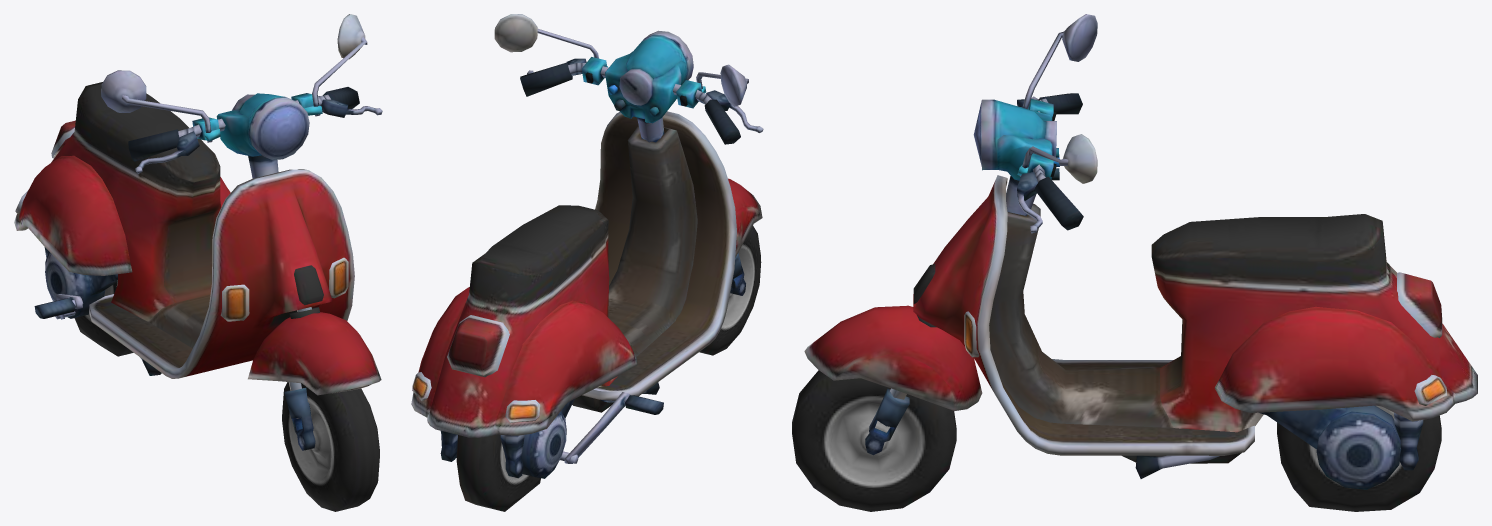
The model's file is motorcycle.glb.
3 views of the same model, side by side, from view 1: azimuth 30°, elevation 25°; view 2: azimuth 150°, elevation 25°; view 3: azimuth 270°, elevation 25° (orthographic). The views are drawn at different scales.
Parts seen in each view (by area): view 1: Donut_Scooter_Gadget_3_0, Object005_16_0, Object001_45_0, Object004_12_0, Object003_8_0, Object007_27_0, Object009_49_0, Object002, Object006_23_0, Object008_32_0; view 2: Donut_Scooter_Gadget_3_0, Object005_16_0, Object002, Object001_45_0, Object003_8_0, Object006_23_0, Object008_32_0, Object010, Object004_12_0, Object007_27_0, Object009_49_0; view 3: Donut_Scooter_Gadget_3_0, Object001_45_0, Object004_12_0, Object005_16_0, Object003_8_0, Object002, Object009_49_0, Object008_32_0, Object007_27_0, Object010, Object011_37_0.
Boxes of the visible parts, x1,y1,x2,y2 form: Donut_Scooter_Gadget_3_0: [14, 82, 354, 418]; Object005_16_0: [121, 36, 382, 178]; Object001_45_0: [282, 382, 379, 511]; Object004_12_0: [248, 312, 381, 395]; Object003_8_0: [45, 251, 117, 318]; Object007_27_0: [101, 70, 146, 112]; Object009_49_0: [284, 388, 315, 450]; Object002: [74, 282, 133, 356]; Object006_23_0: [34, 294, 83, 319]; Object008_32_0: [337, 14, 365, 59]; Donut_Scooter_Gadget_3_0: [411, 111, 736, 437]; Object005_16_0: [520, 29, 763, 144]; Object002: [456, 434, 540, 511]; Object001_45_0: [699, 226, 761, 355]; Object003_8_0: [441, 399, 574, 478]; Object006_23_0: [560, 392, 663, 463]; Object008_32_0: [494, 14, 537, 52]; Object010: [440, 431, 524, 478]; Object004_12_0: [728, 178, 762, 257]; Object007_27_0: [720, 64, 746, 106]; Object009_49_0: [730, 253, 745, 295]; Donut_Scooter_Gadget_3_0: [880, 175, 1477, 463]; Object001_45_0: [792, 370, 956, 511]; Object004_12_0: [804, 305, 982, 410]; Object005_16_0: [973, 31, 1083, 233]; Object003_8_0: [1259, 405, 1400, 489]; Object002: [1277, 405, 1441, 511]; Object009_49_0: [865, 388, 909, 455]; Object008_32_0: [1063, 134, 1097, 183]; Object007_27_0: [1062, 14, 1097, 61]; Object010: [1394, 412, 1423, 470]; Object011_37_0: [1135, 455, 1219, 478].
Bounding box in the file's own units: 0.8897 × 1.28 × 1.85.
3 materials, 3 textured.
